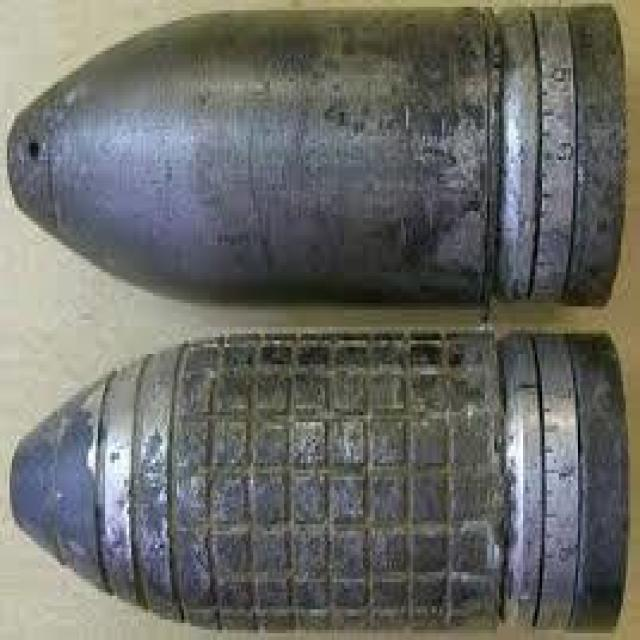grenade: (2, 3, 636, 316), (7, 323, 633, 640)
